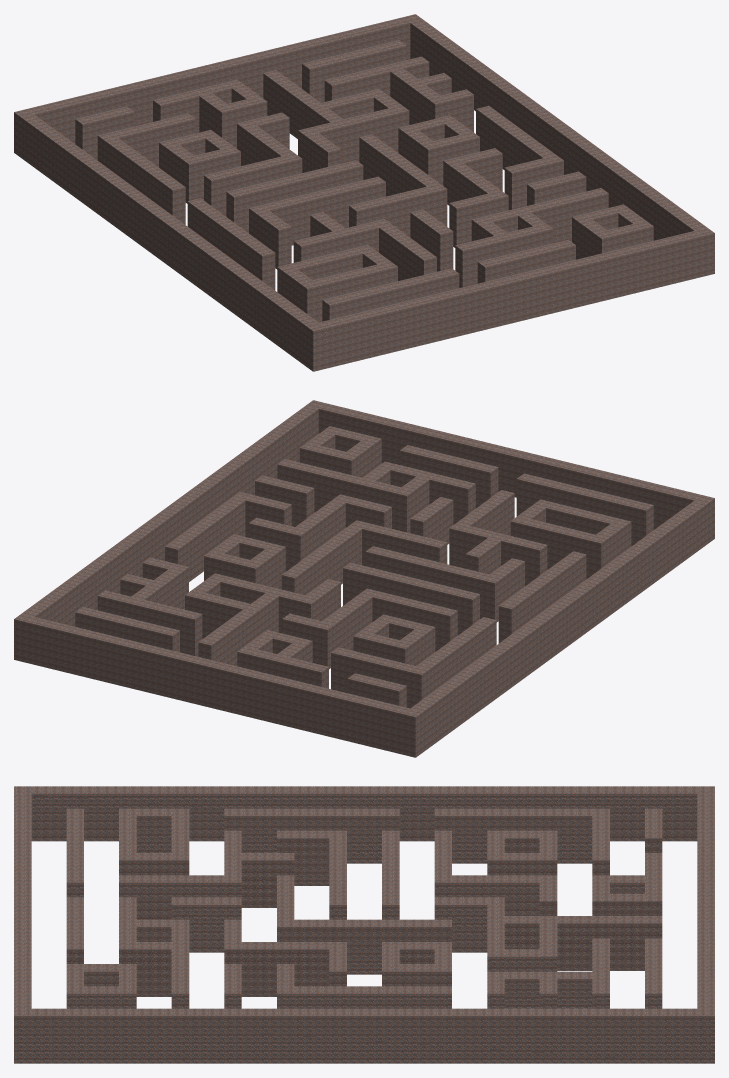
File: stage_wall.gltf
3 views of the same model, one above another, from view 1: azimuth 30°, elevation 25°; view 2: azimuth 150°, elevation 25°; view 3: azimuth 270°, elevation 25° (orthographic). The views are drawn at different scales.
Visible parts, largest first — view 1: Cube.032, 立方体.007, 立方体.025, 立方体.020, Cube.041, Cube.001, Cube.014, Cube.031, 立方体.009, Cube.012, 立方体.005, 立方体.028 (+46 smaller); view 2: 立方体.020, 立方体.007, 立方体.025, Cube.032, Cube.012, Cube.031, Cube.041, Cube.001, 立方体.016, Cube.025, 立方体.013, Cube.014 (+47 smaller); view 3: 立方体.025, 立方体.007, 立方体.009, Cube.001, 立方体.020, Cube.032, Cube, Cube.017, Cube.038, 立方体.022, Cube.013, 立方体.002 (+55 smaller).
Boxes of the visible parts, x1,y1,x2,y2 form: Cube.032: [305, 231, 701, 371]; 立方体.007: [21, 114, 326, 371]; 立方体.025: [410, 19, 714, 276]; 立方体.020: [14, 14, 422, 157]; Cube.041: [226, 160, 363, 233]; Cube.001: [187, 198, 275, 290]; Cube.014: [262, 176, 385, 245]; Cube.031: [322, 268, 459, 321]; 立方体.009: [105, 138, 185, 224]; Cube.012: [471, 188, 608, 243]; 立方体.005: [311, 105, 409, 163]; 立方体.028: [302, 40, 406, 102]; 立方体.020: [14, 613, 423, 757]; 立方体.007: [410, 495, 714, 751]; 立方体.025: [22, 400, 325, 626]; Cube.032: [318, 403, 714, 543]; Cube.012: [277, 459, 414, 532]; Cube.031: [516, 473, 653, 546]; Cube.041: [343, 562, 479, 635]; Cube.001: [498, 551, 586, 643]; 立方体.016: [331, 647, 429, 708]; Cube.025: [510, 516, 608, 579]; 立方体.013: [97, 590, 202, 656]; Cube.014: [365, 546, 489, 619]; 立方体.025: [14, 1008, 697, 1063]; 立方体.007: [14, 786, 697, 841]; 立方体.009: [434, 808, 592, 863]; Cube.001: [224, 808, 399, 863]; 立方体.020: [697, 786, 714, 1063]; Cube.032: [14, 786, 31, 1008]; Cube: [241, 942, 329, 996]; Cube.017: [119, 875, 241, 919]; Cube.038: [347, 919, 451, 974]; 立方体.022: [487, 971, 592, 1008]; Cube.013: [171, 897, 241, 952]; 立方体.002: [452, 875, 539, 915].
Bounding box in the file's own units: 62 × 6 × 80.
